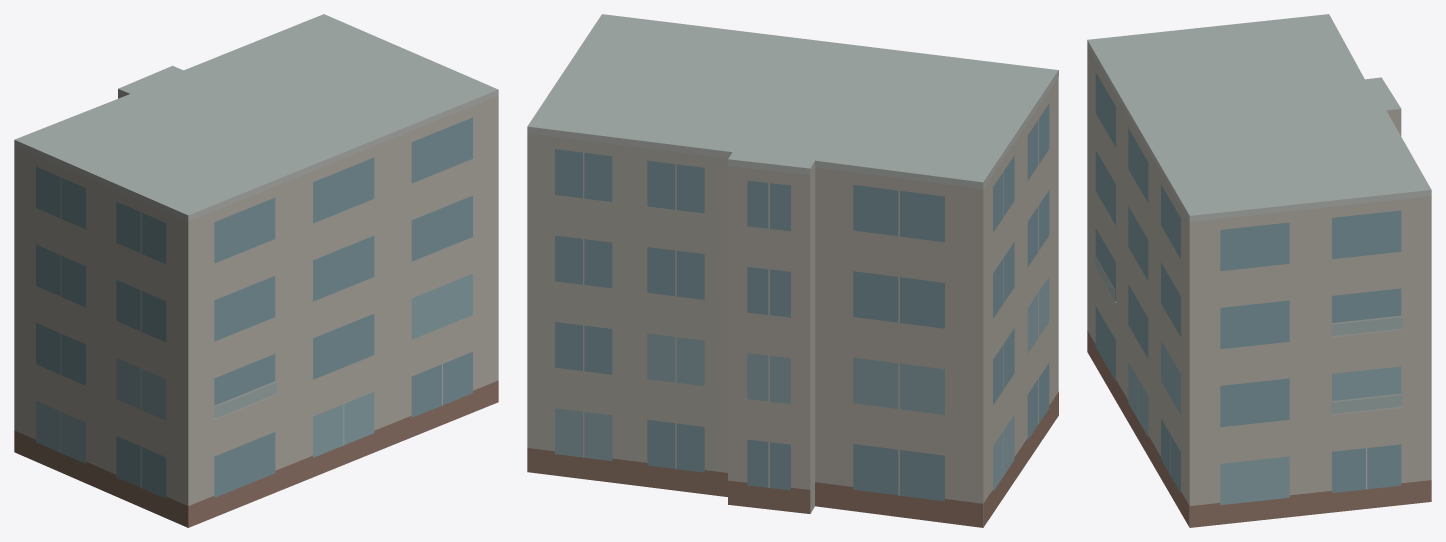
File: survey-upis-33018273.glb
The picture shows the model from 3 angles, left to right: view 1: azimuth 30°, elevation 25°; view 2: azimuth 150°, elevation 25°; view 3: azimuth 270°, elevation 25°; orthographic projection. The views are drawn at different scales.
Parts seen in each view (by area): view 1: survey-upis-33018273.tmp; view 2: survey-upis-33018273.tmp; view 3: survey-upis-33018273.tmp.
Part boxes in pixels (x1=…): survey-upis-33018273.tmp: x1=14, y1=14, x2=498, y2=527; survey-upis-33018273.tmp: x1=527, y1=14, x2=1058, y2=527; survey-upis-33018273.tmp: x1=1087, y1=14, x2=1431, y2=527.
Size of the model in its own units: 17.37 by 12.5 by 12.52.
